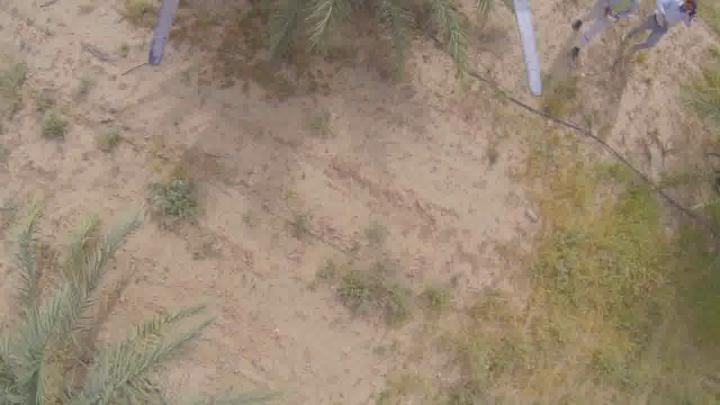Date-Palm-Crown: (0, 340, 70, 404)
